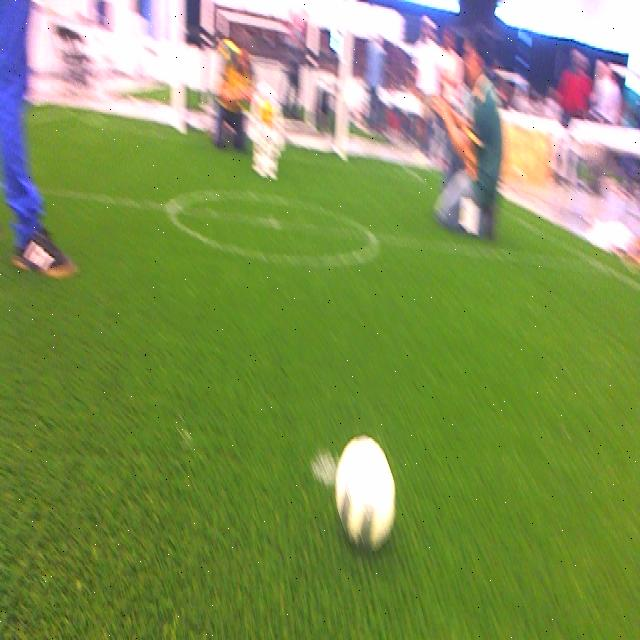ball: (332, 439, 396, 549)
goalpost: (331, 27, 347, 158), (171, 9, 187, 131)
